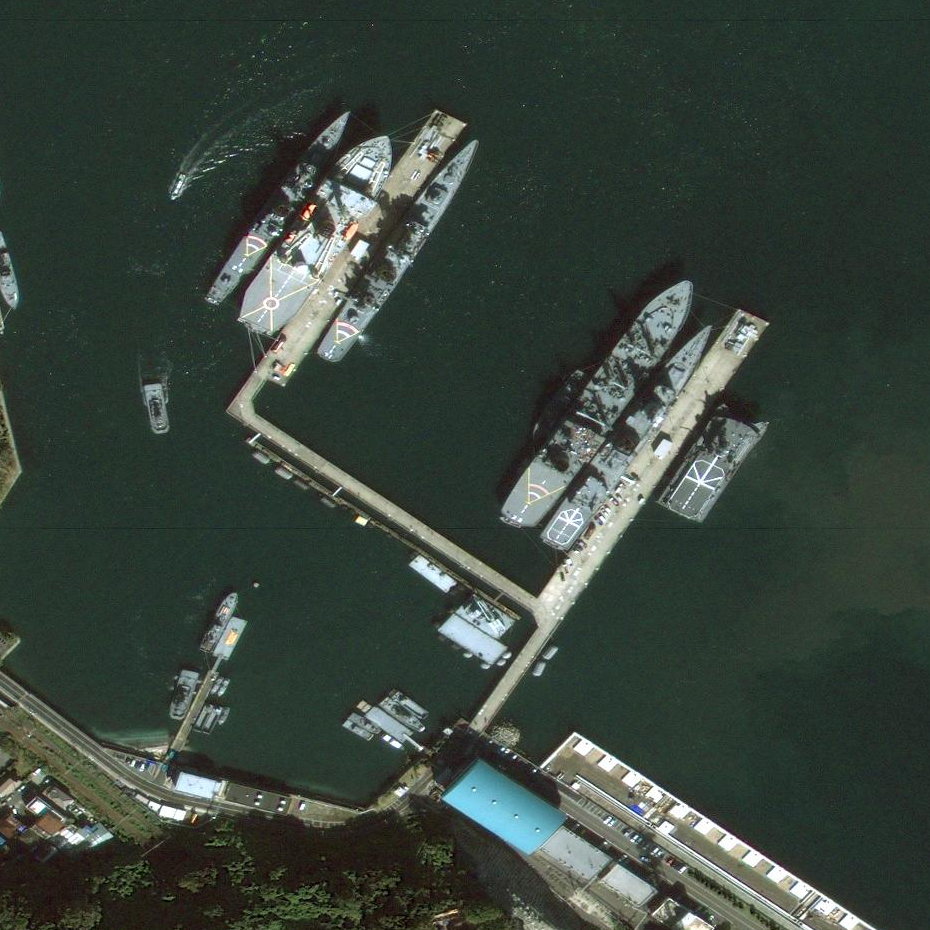Atago DD: (534, 310, 728, 560)
Dock: (540, 301, 770, 615), (238, 102, 466, 410)
Hatsuyuki DD: (205, 102, 359, 308)
Hovercraft: (167, 667, 201, 721)
Motorboat: (216, 706, 232, 726), (216, 677, 232, 697), (211, 675, 225, 695)
Other Auxiliary Ship: (499, 268, 705, 532)
Other Destroyer: (314, 120, 492, 368)
Other Landing: (228, 116, 412, 348)
Other Merchant: (381, 732, 407, 752)
Other Ship: (522, 365, 592, 451), (348, 711, 382, 737), (341, 718, 373, 744)
Other Warship: (653, 395, 771, 533), (378, 695, 428, 737), (141, 382, 171, 438), (387, 684, 431, 722), (168, 171, 190, 203)
